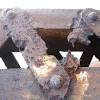rust: (2, 4, 98, 40), (2, 66, 98, 98), (14, 29, 55, 70), (64, 21, 93, 47), (59, 53, 83, 70)
